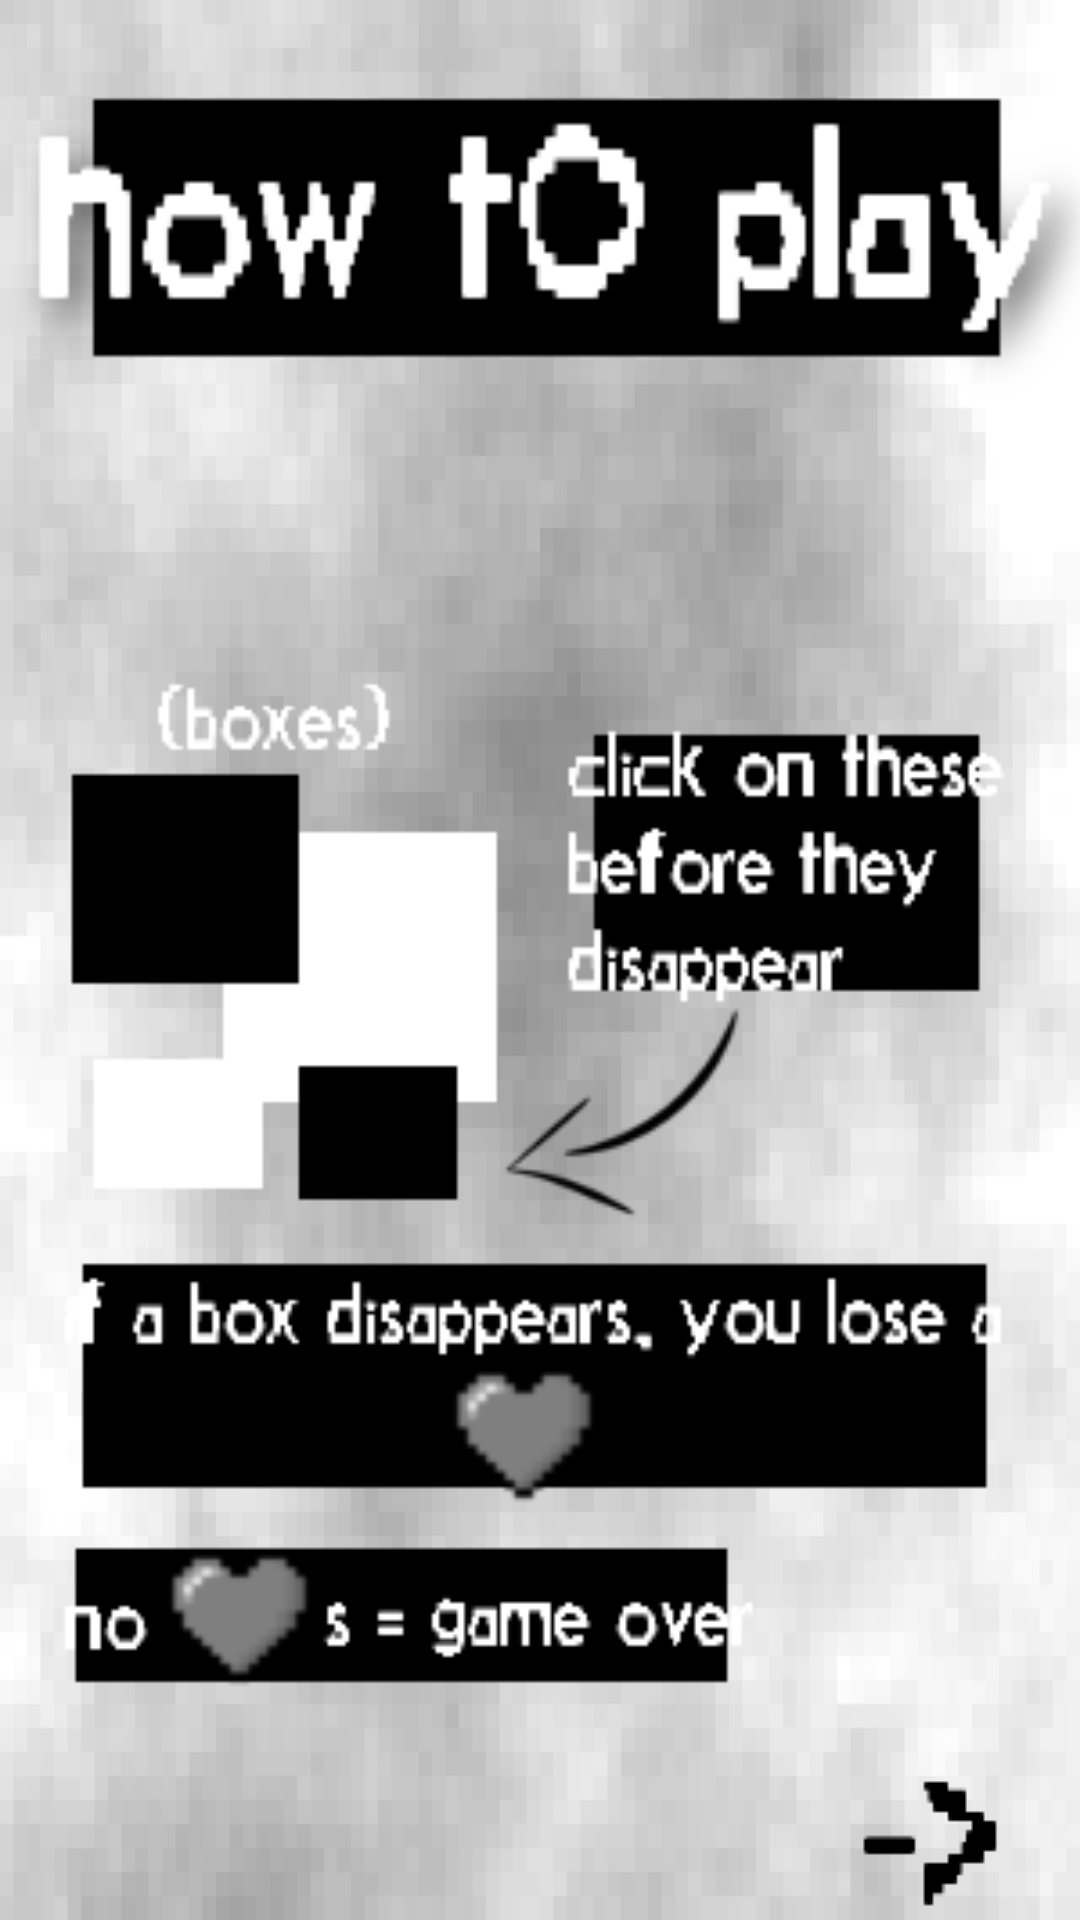

Icon click points for this 1080px x 1920px phone screenshot, format [x,y]:
nextbutton: [910,1850]
